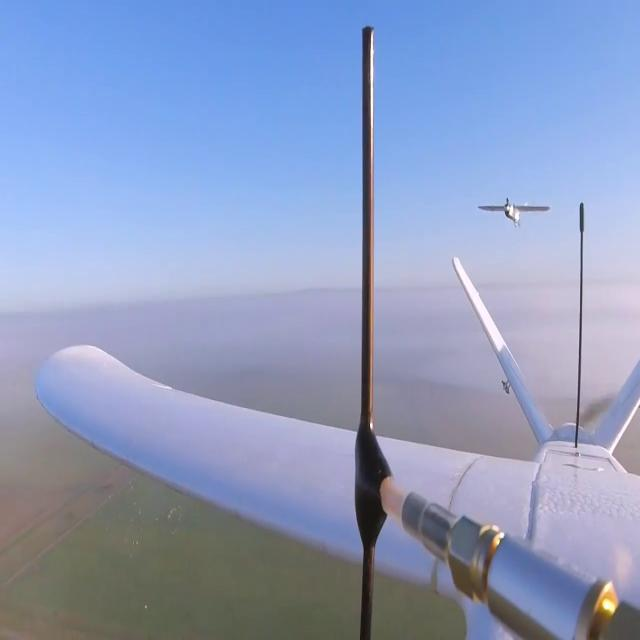iha: (506, 190, 519, 230)
